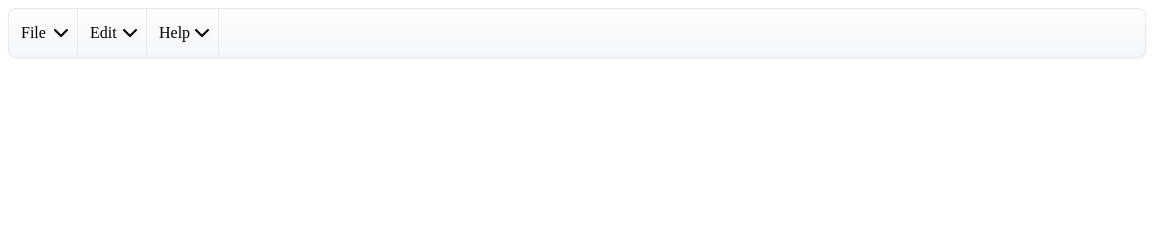
Test: Menu Bar › Interaction › should open Menu on click
Expected: the text "File" is shown, x1=21 y1=24 x2=46 y2=42
Click the menu item "File". click: (44, 33)
box: x1=9 y1=9 x2=78 y2=57
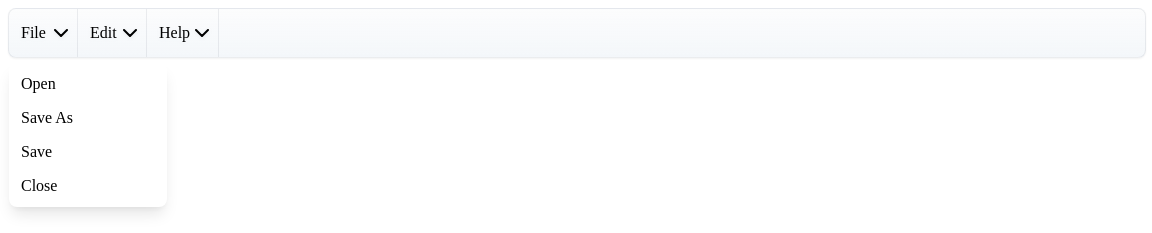
Expected: the text "Open" is shown, x1=21 y1=75 x2=56 y2=92
